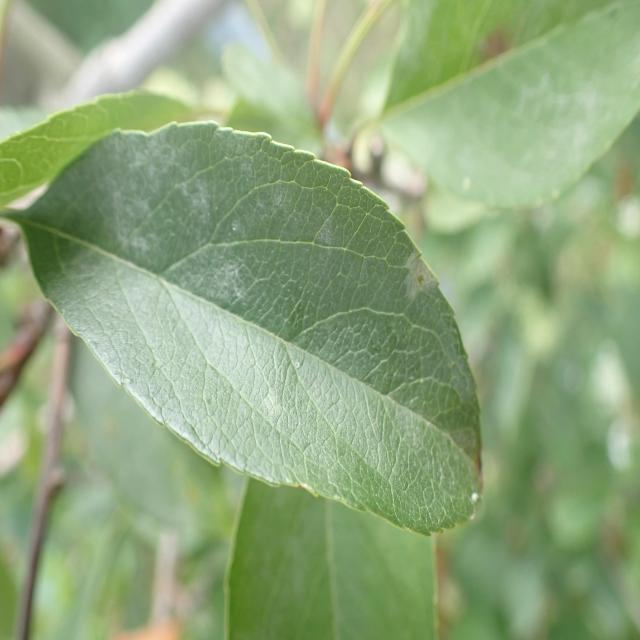Powdery_mildew: (67, 114, 482, 525)
